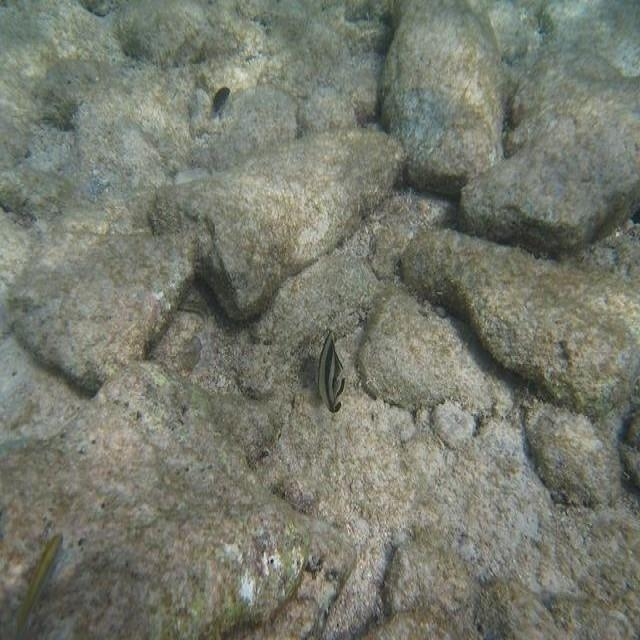fish: (16, 531, 64, 638), (318, 330, 346, 412), (178, 301, 209, 330), (213, 88, 230, 114)
sea-floor: (0, 360, 357, 639), (148, 129, 406, 320), (399, 230, 639, 417), (378, 1, 516, 193)
